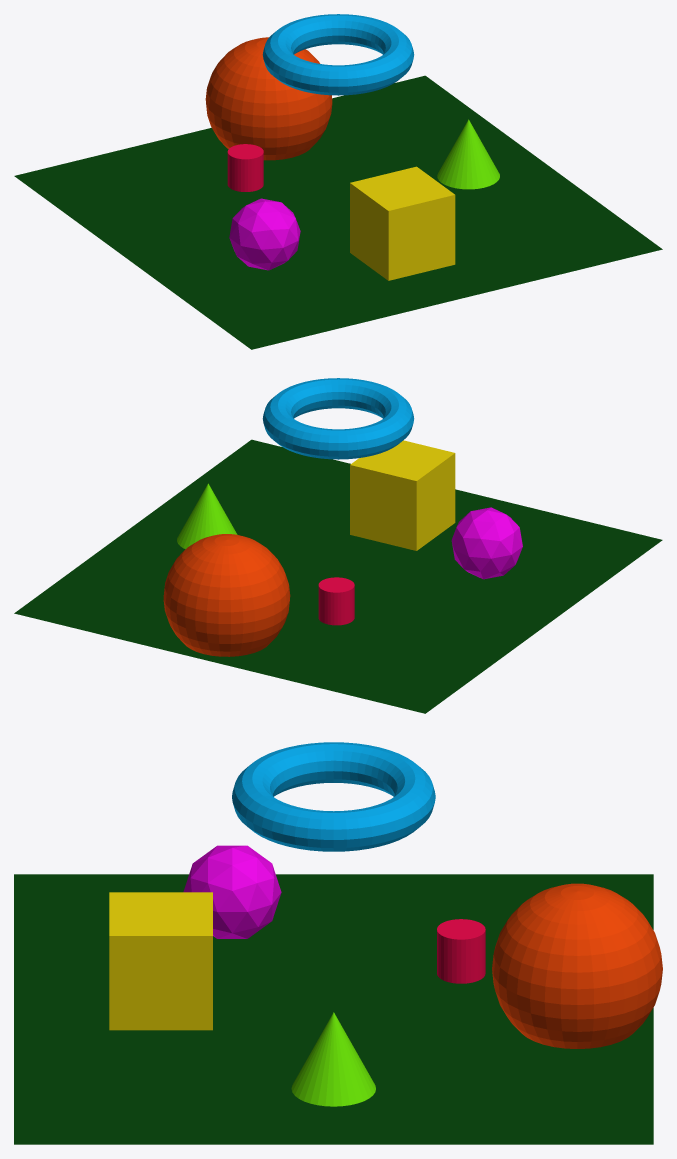
File: simplescene.glb
3 renders of one model, top to bottom at view 1: azimuth 30°, elevation 25°; view 2: azimuth 150°, elevation 25°; view 3: azimuth 270°, elevation 25°, orthographic. The views are drawn at different scales.
Visible parts, largest first — view 1: Plane, Cube, Sphere, Torus, Icosphere, Cone, Cylinder; view 2: Plane, Sphere, Cube, Torus, Icosphere, Cone, Cylinder; view 3: Plane, Sphere, Torus, Cube, Icosphere, Cone, Cylinder.
Boxes of the visible parts, x1,y1,x2,y2 form: Plane: [14, 75, 662, 349]; Cube: [350, 166, 455, 280]; Sphere: [205, 37, 332, 160]; Torus: [262, 14, 414, 95]; Icosphere: [229, 198, 300, 270]; Cone: [437, 119, 499, 189]; Cylinder: [227, 144, 263, 191]; Plane: [14, 439, 662, 713]; Sphere: [163, 534, 290, 656]; Cube: [350, 440, 455, 550]; Torus: [262, 378, 414, 459]; Icosphere: [451, 507, 522, 579]; Cone: [177, 483, 237, 549]; Cylinder: [318, 577, 354, 625]; Plane: [14, 874, 653, 1144]; Sphere: [492, 883, 662, 1048]; Torus: [232, 742, 435, 851]; Cube: [109, 892, 212, 1030]; Icosphere: [183, 845, 281, 938]; Cone: [291, 1012, 375, 1106]; Cylinder: [437, 919, 485, 983].
Size of the model in its own units: 39.92 by 17.5 by 40.5.
